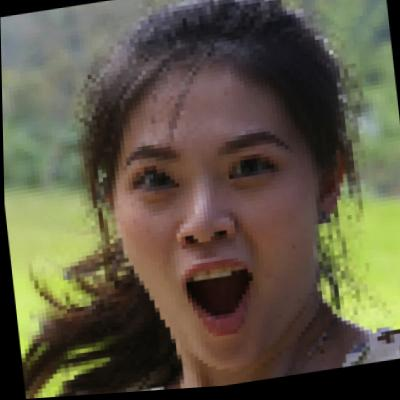surprise: (99, 44, 329, 384)
